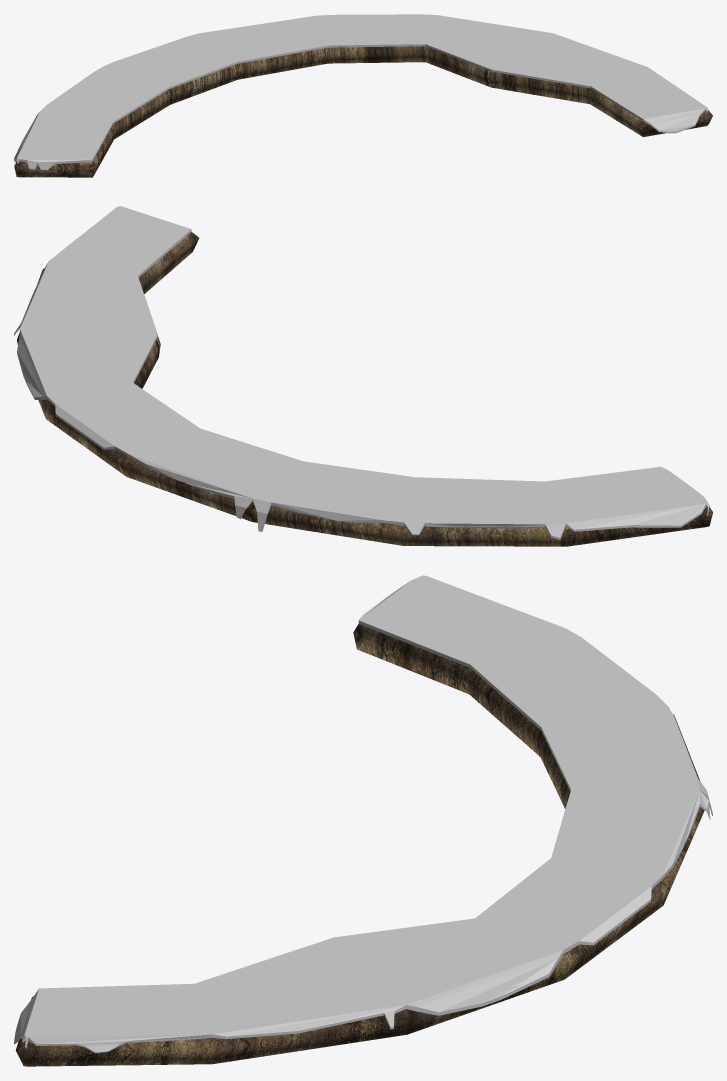
The model's file is Plat01.FBX.
The picture shows the model from 3 angles, top to bottom: view 1: azimuth 30°, elevation 25°; view 2: azimuth 150°, elevation 25°; view 3: azimuth 270°, elevation 25°; orthographic projection. The views are drawn at different scales.
Visible parts, largest first — view 1: Plat01; view 2: Plat01; view 3: Plat01.
Part boxes in pixels (x1,y1,x2,y2): Plat01: (14,14,712,177); Plat01: (14,206,712,546); Plat01: (14,575,712,1066).
Size of what is drawn, in the model's own units: 113 by 3.74 by 71.14.
